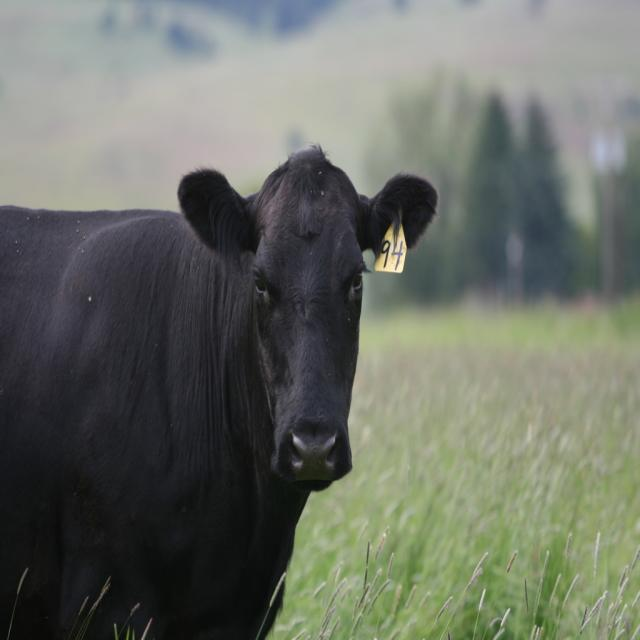Cattle: (0, 141, 439, 640)
